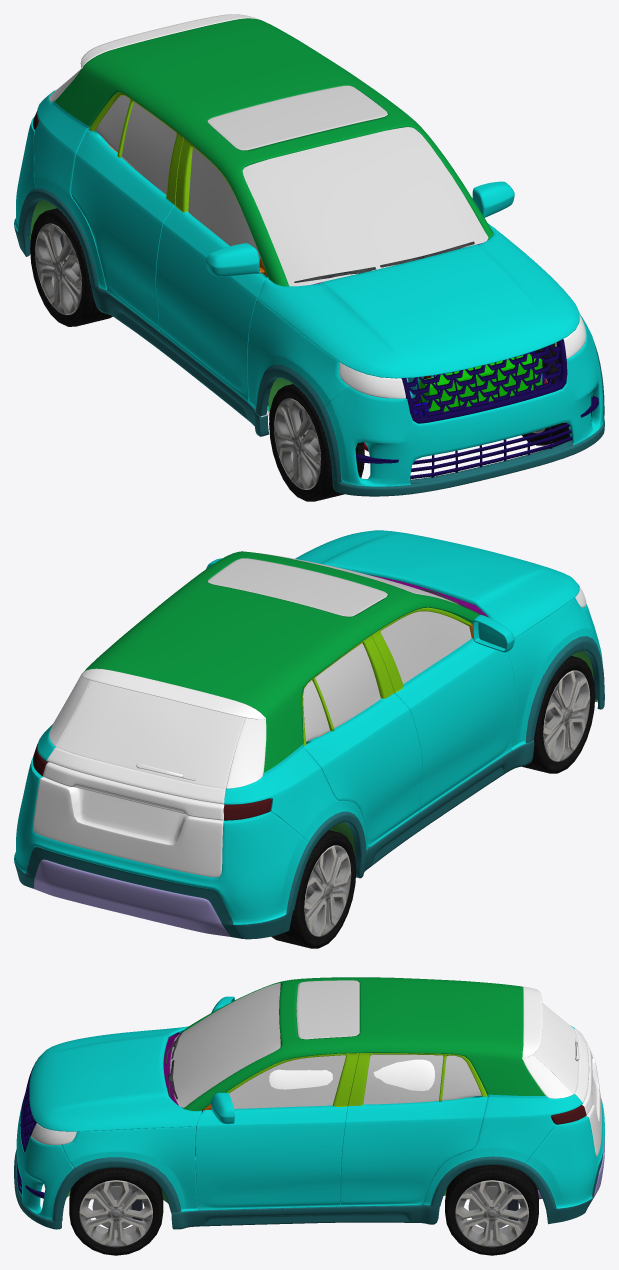
The model's file is suv_hologram.glb.
The picture shows the model from 3 angles, top to bottom: view 1: azimuth 30°, elevation 25°; view 2: azimuth 150°, elevation 25°; view 3: azimuth 270°, elevation 25°; orthographic projection. The views are drawn at different scales.
Parts seen in each view (by area): view 1: Chassis_Main, Chassis_Glass, Wheel_FR, Wheel_RR, Engine_Block, Headlights, Trunk, Wheel_FL; view 2: Chassis_Main, Trunk, Chassis_Glass, Wheel_RR, Wheel_FR, Taillights; view 3: Chassis_Main, Chassis_Glass, Wheel_RL, Wheel_FL, Trunk, Airbag_Rear_L, Airbag_Curtain_L.001, Headlights, Taillights.
Part boxes in pixels (x1=…): Chassis_Main: x1=14, y1=18, x2=604, y2=496; Chassis_Glass: x1=95, y1=85, x2=488, y2=286; Wheel_FR: x1=269, y1=384, x2=364, y2=501; Wheel_RR: x1=30, y1=208, x2=112, y2=326; Engine_Block: x1=406, y1=353, x2=542, y2=411; Headlights: x1=338, y1=313, x2=586, y2=398; Trunk: x1=50, y1=14, x2=260, y2=102; Wheel_FL: x1=522, y1=343, x2=592, y2=445; Chassis_Main: x1=14, y1=530, x2=604, y2=939; Trunk: x1=33, y1=668, x2=266, y2=877; Chassis_Glass: x1=208, y1=553, x2=471, y2=741; Wheel_RR: x1=271, y1=830, x2=356, y2=948; Wheel_FR: x1=522, y1=656, x2=595, y2=773; Taillights: x1=33, y1=744, x2=271, y2=820; Chassis_Main: x1=14, y1=977, x2=604, y2=1229; Chassis_Glass: x1=170, y1=980, x2=481, y2=1108; Wheel_RL: x1=445, y1=1165, x2=538, y2=1255; Wheel_FL: x1=69, y1=1167, x2=163, y2=1255; Trunk: x1=522, y1=986, x2=601, y2=1156; Airbag_Rear_L: x1=373, y1=1059, x2=434, y2=1090; Airbag_Curtain_L.001: x1=269, y1=1069, x2=332, y2=1089; Headlights: x1=31, y1=1123, x2=76, y2=1145; Taillights: x1=551, y1=1105, x2=586, y2=1124.
Bounding box in the file's own units: 1.95 × 1.56 × 4.19.
Materials: 16 (3 with a texture image).
